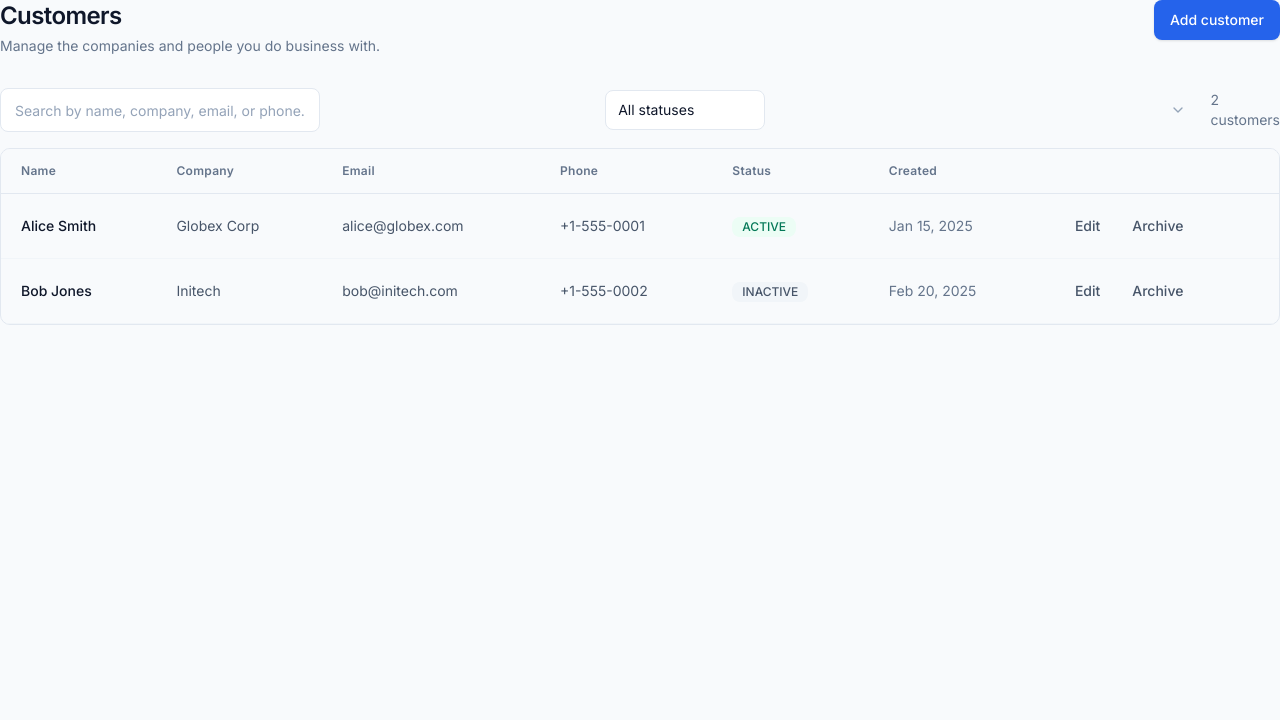
Test case: CustomersPage › Edit button opens edit modal with customer data
Expected: the text "Alice Smith" is shown, left=21, top=217, right=96, bottom=234
What coordinates should you click on to do the following:
click the button "Edit" in the row of "Alice Smith"
I would click on:
 (1088, 226)
Its box is left=1061, top=210, right=1114, bottom=242.
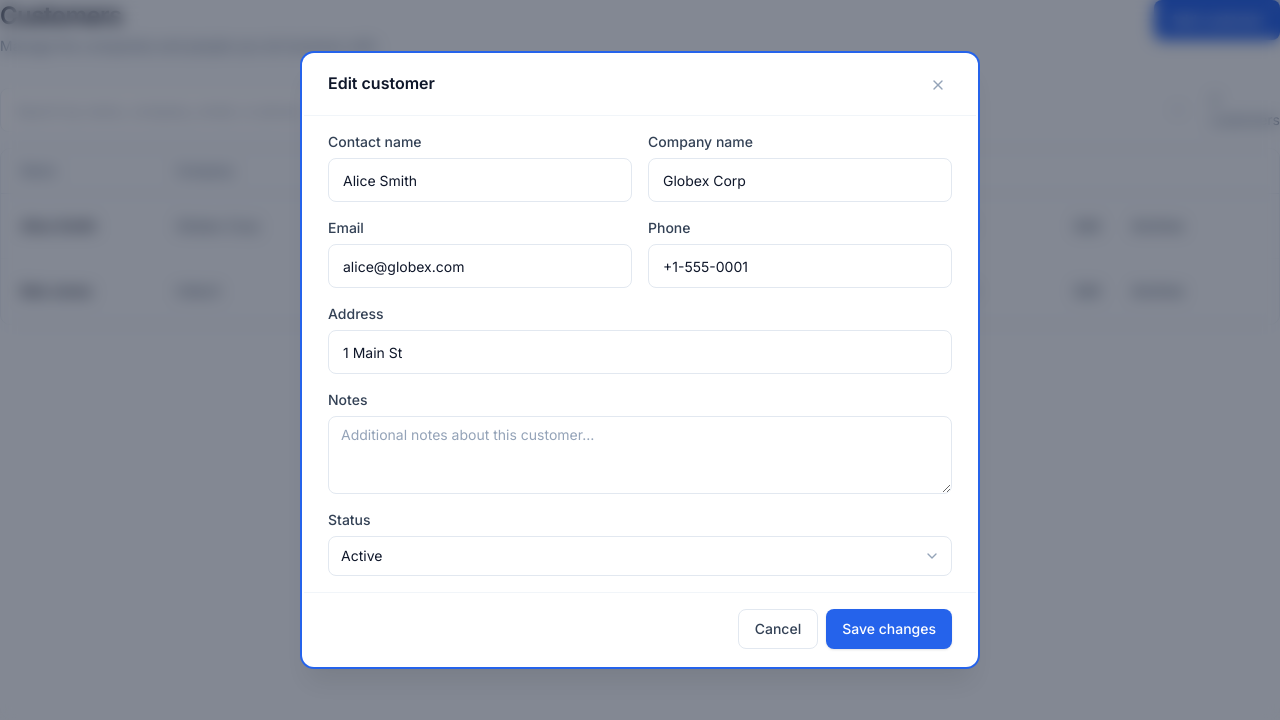
Now the dialog is shown, box left=304, top=55, right=976, bottom=665
Now the heading "Edit customer" is shown, box left=328, top=71, right=435, bottom=95
Now the field showing "Alice Smith" is shown, box left=328, top=158, right=632, bottom=202
